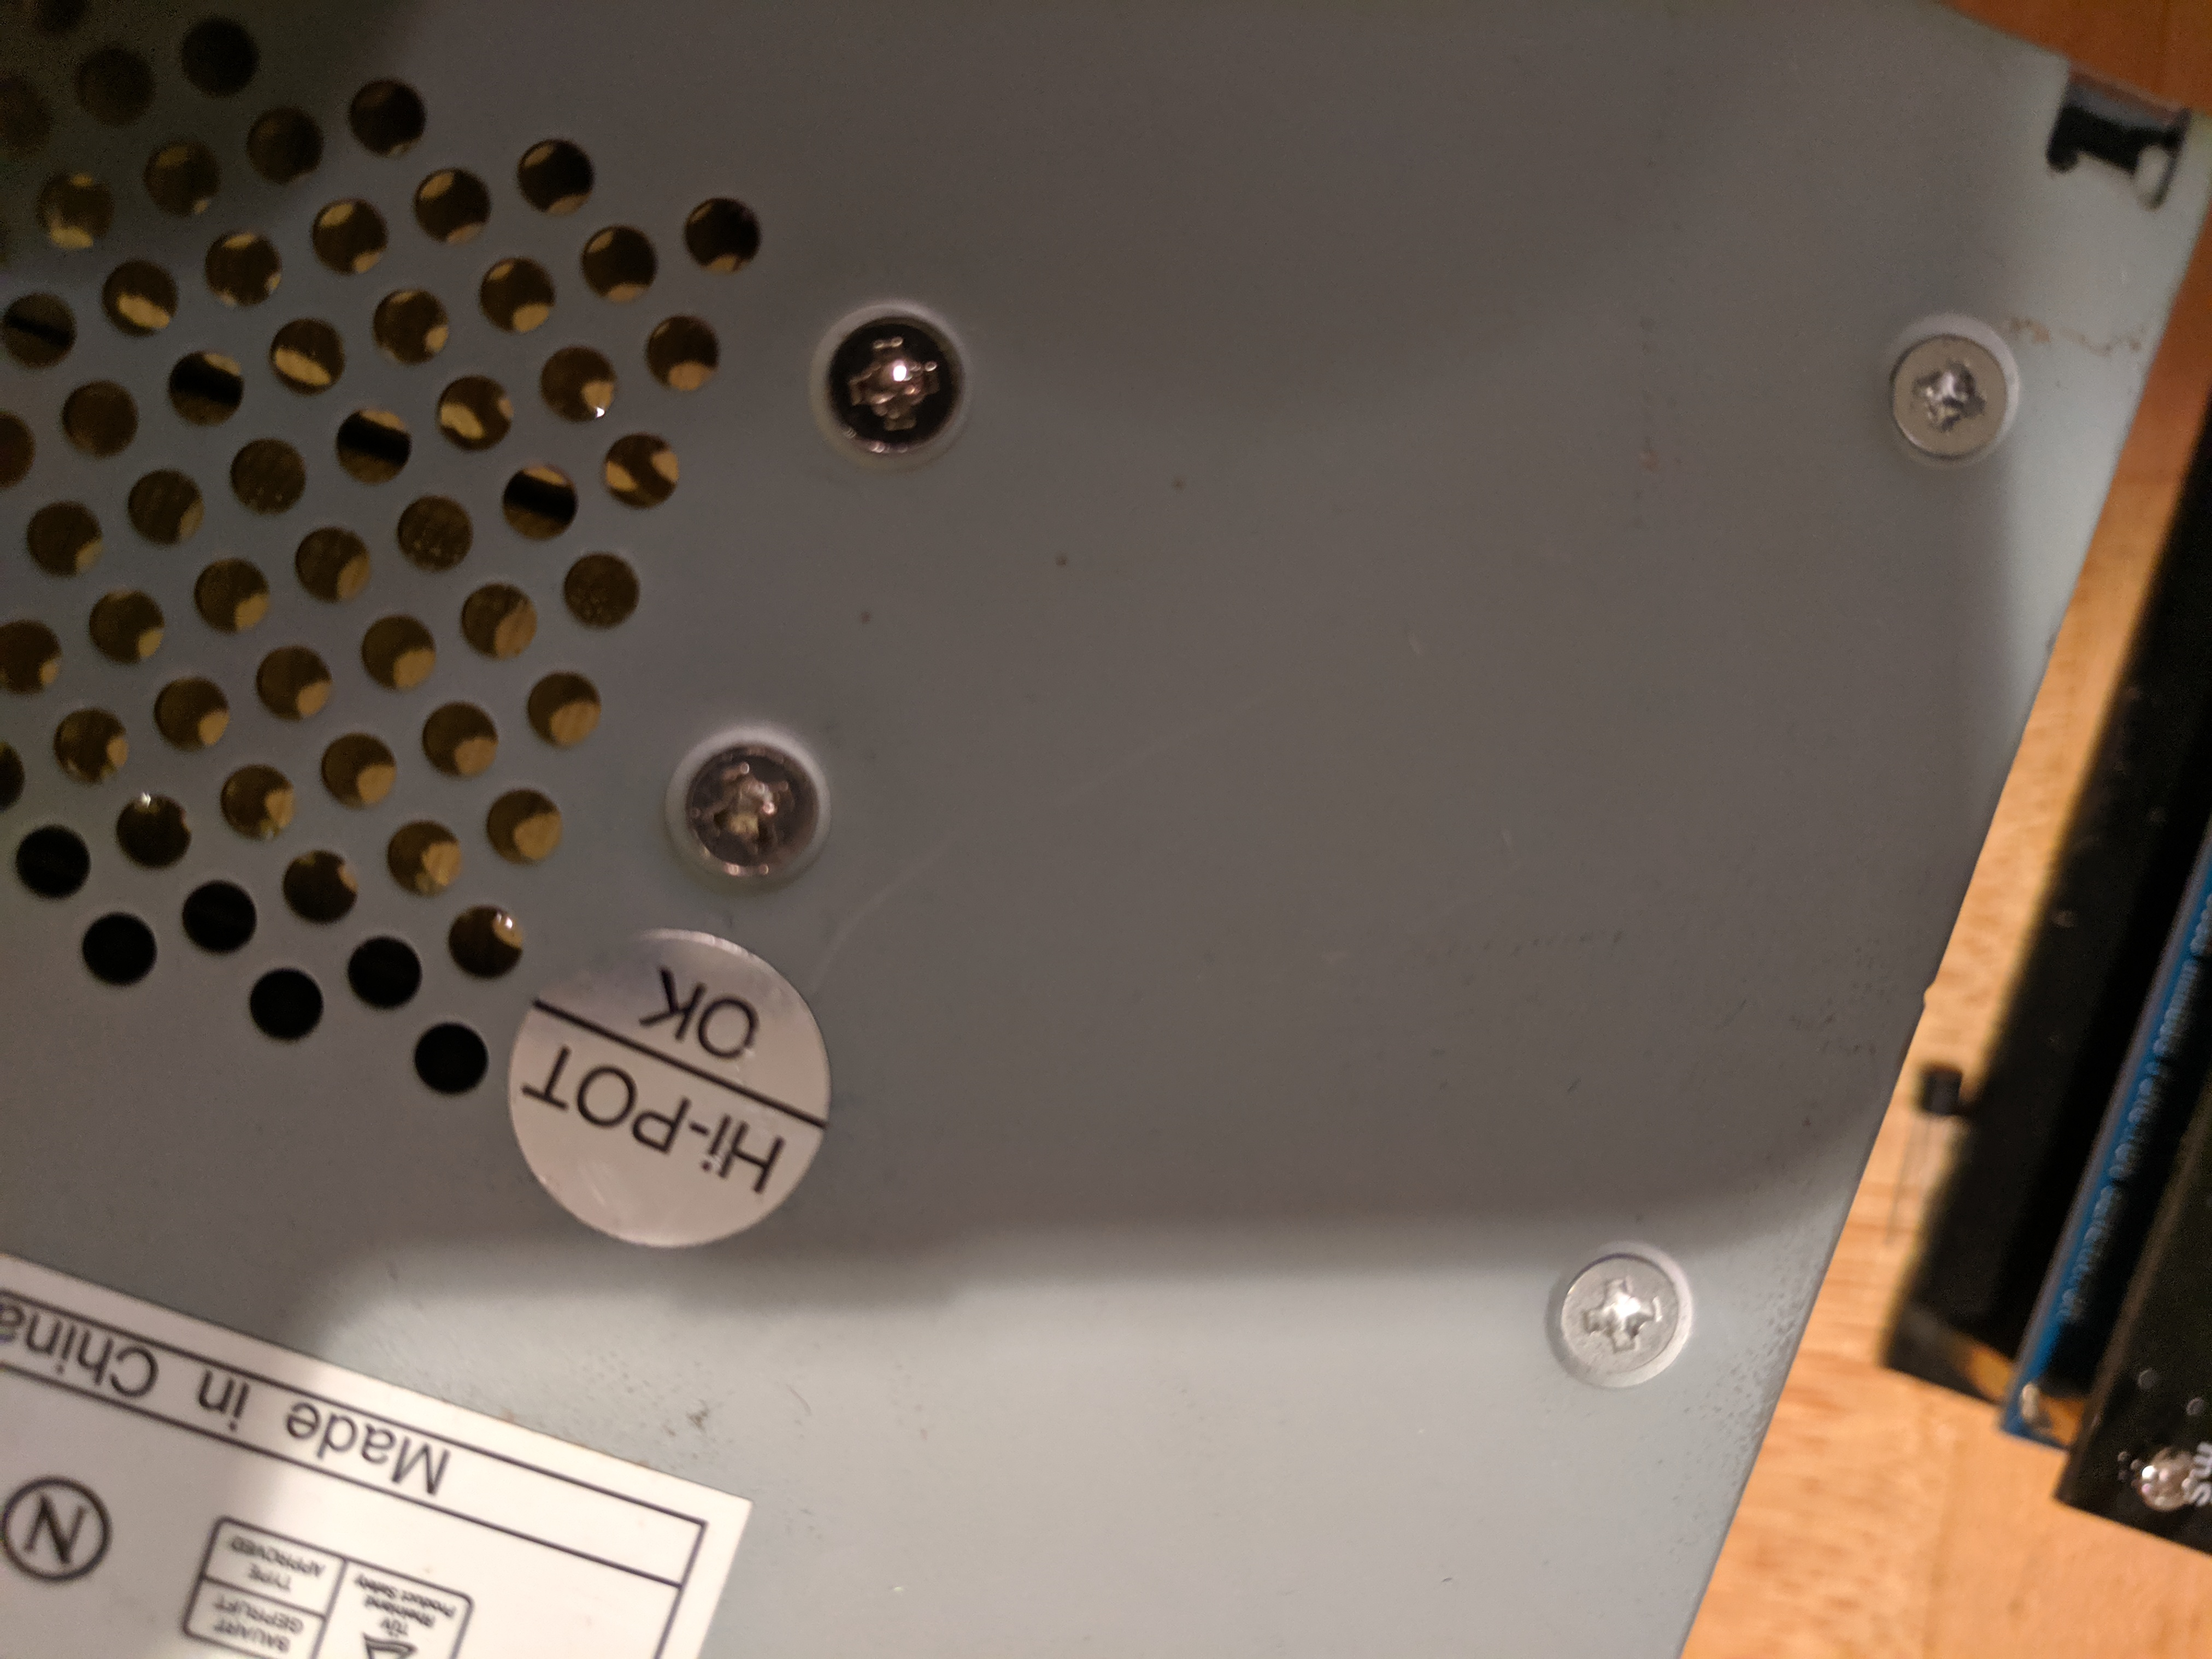cross_recessed_screw: (815, 303, 961, 451), (672, 730, 819, 877), (1552, 1241, 1695, 1384), (1883, 317, 2012, 457)
